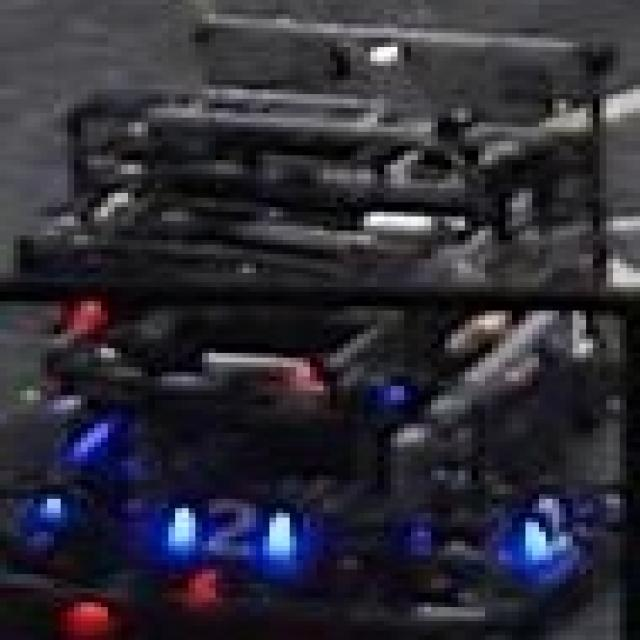B2: (162, 489, 290, 565)
